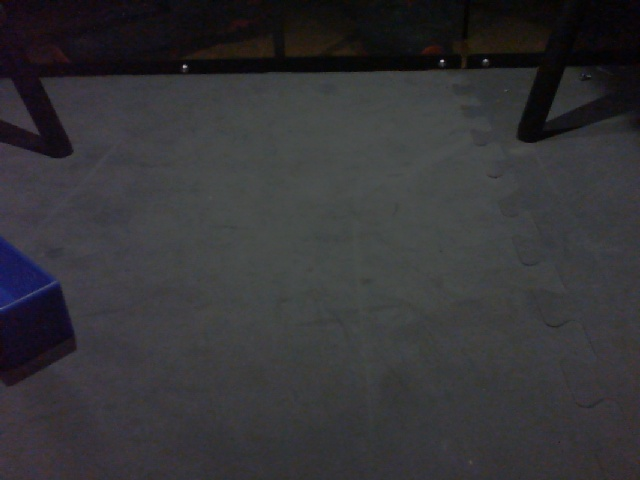BlueSample: (1, 230, 77, 373)
